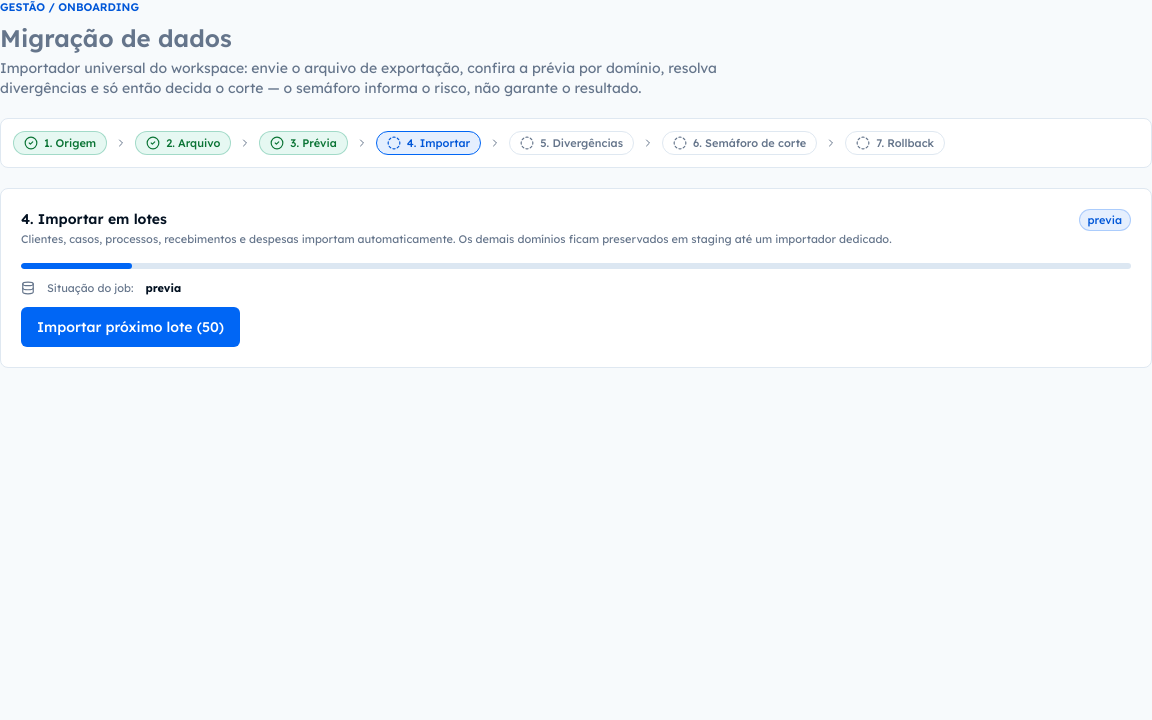
Test: MigracaoPage — wizard de migração › walks the full wizard: prévia mostra contagens, divergência resolve, semáforo vermelho bloqueia o corte até decisão explícita, rollback fica visível
Earlier steps of the test are not shown.
Later steps or results of the test are not shown.
Click the button "Importar próximo lote (50)" at (131, 327), box [21,307,240,347]
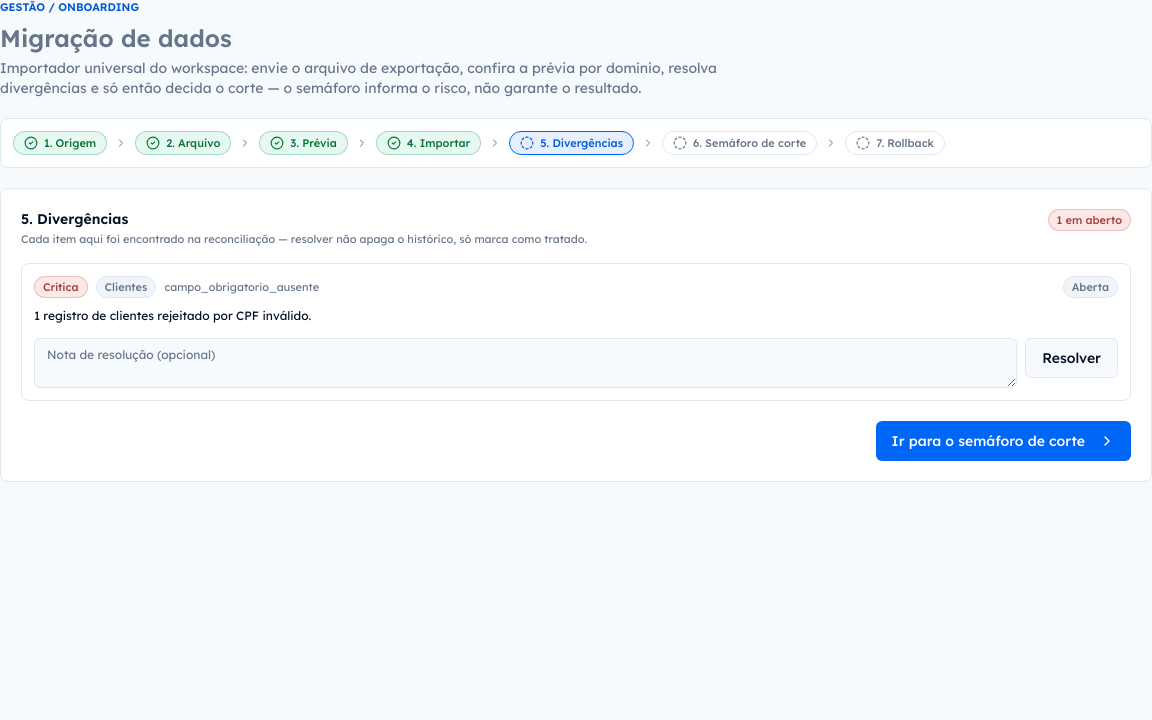
Expected: the text "1 registro de clientes rejeitado por CPF inválido." is shown, [34,308,311,323]
Expected: the text "1 em aberto" is shown, [1048,209,1131,231]
Click the button "Resolver" at (1072, 358), box [1025,338,1118,378]
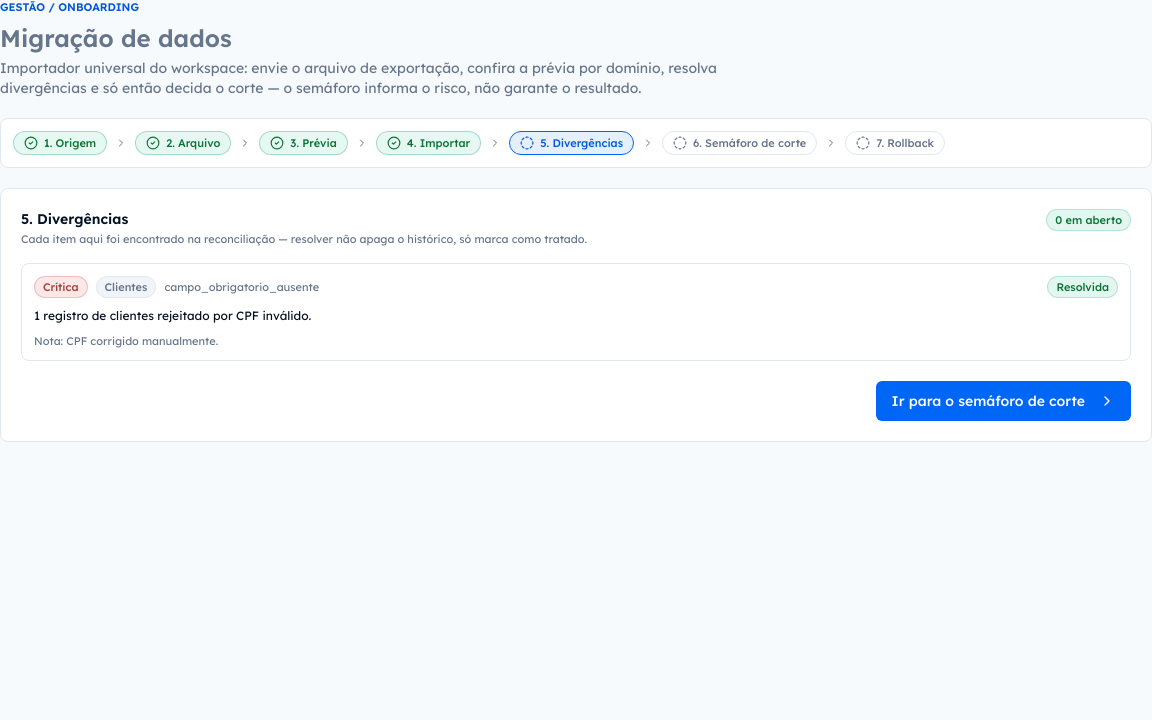
Click the button "Ir para o semáforo de corte" at (1003, 401), box [876,381,1131,421]
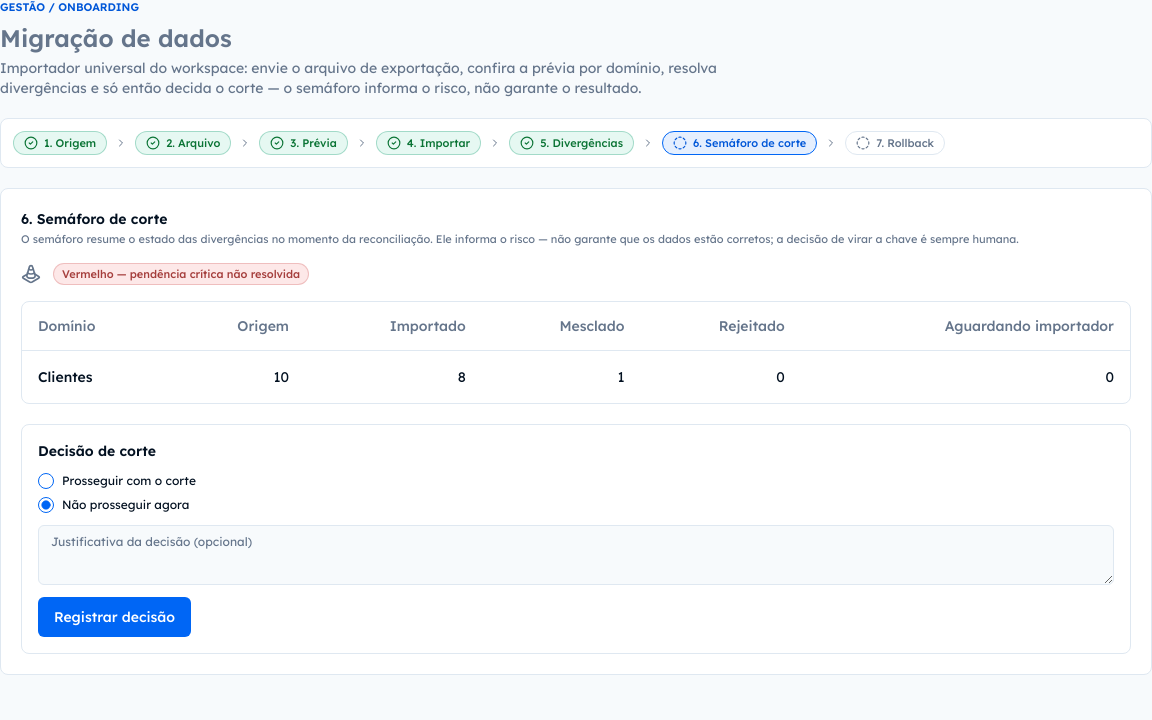
Expected: the text "Vermelho — pendência crítica não resolvida" is shown, [53,263,309,285]
Click the radio button named "Prosseguir com o corte" at (46, 480), box [38,472,54,488]
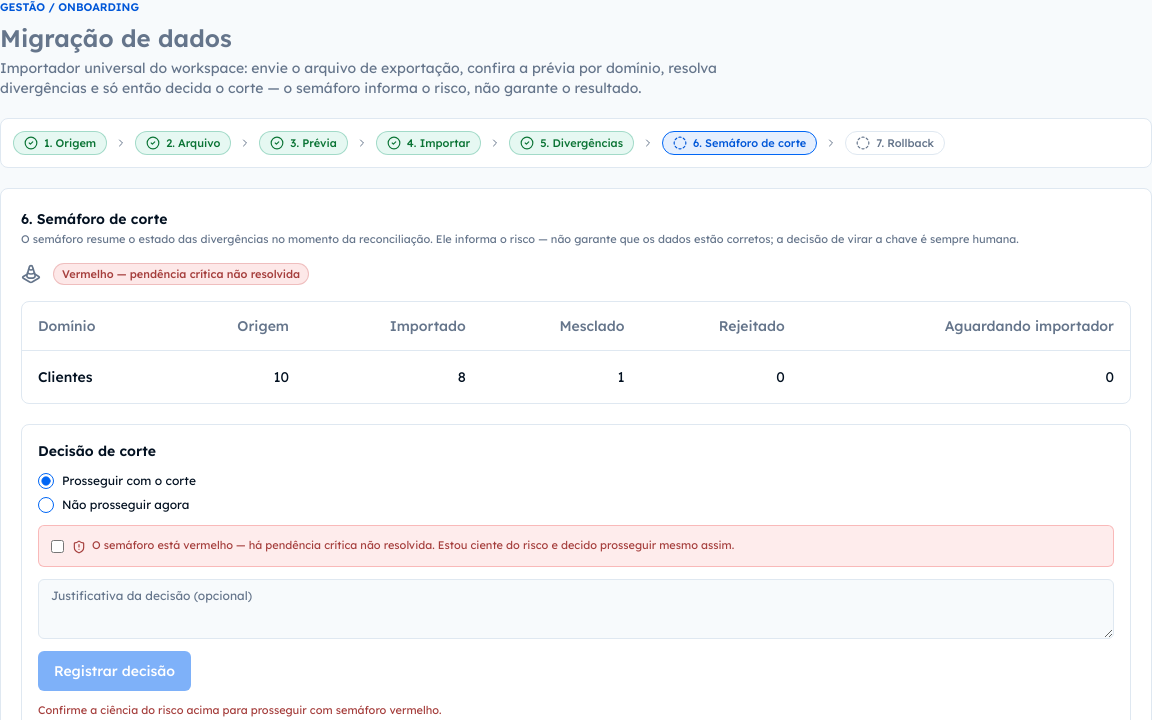
Expected: the button "Registrar decisão" is disabled, [38,650,191,690]
Expected: the text "Confirme a ciência do risco" is shown, [38,702,442,716]
Click the checkbox at (58, 546), box [51,540,64,552]
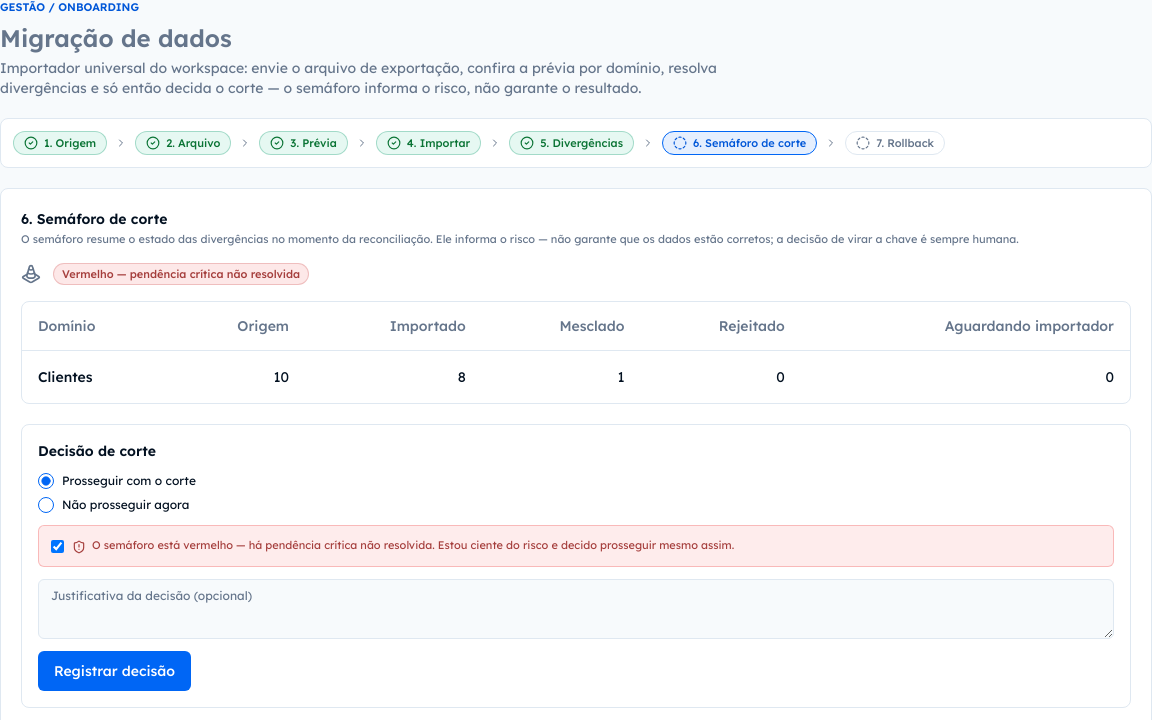
Expected: the button "Registrar decisão" is enabled
Click the button "Registrar decisão" at (115, 670), box [38,650,191,690]
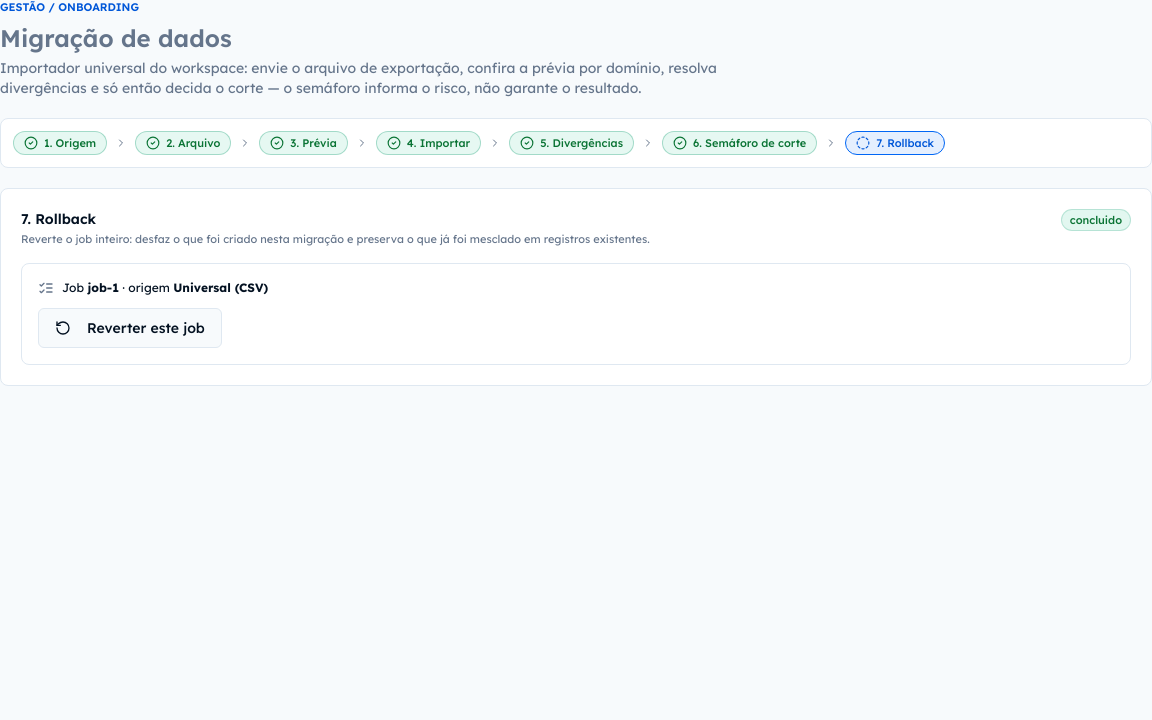
Expected: the button "Reverter este job" is shown, [38,308,222,348]
